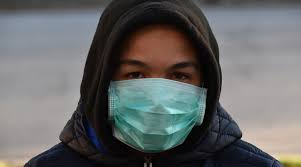with_mask: (88, 2, 223, 153)
